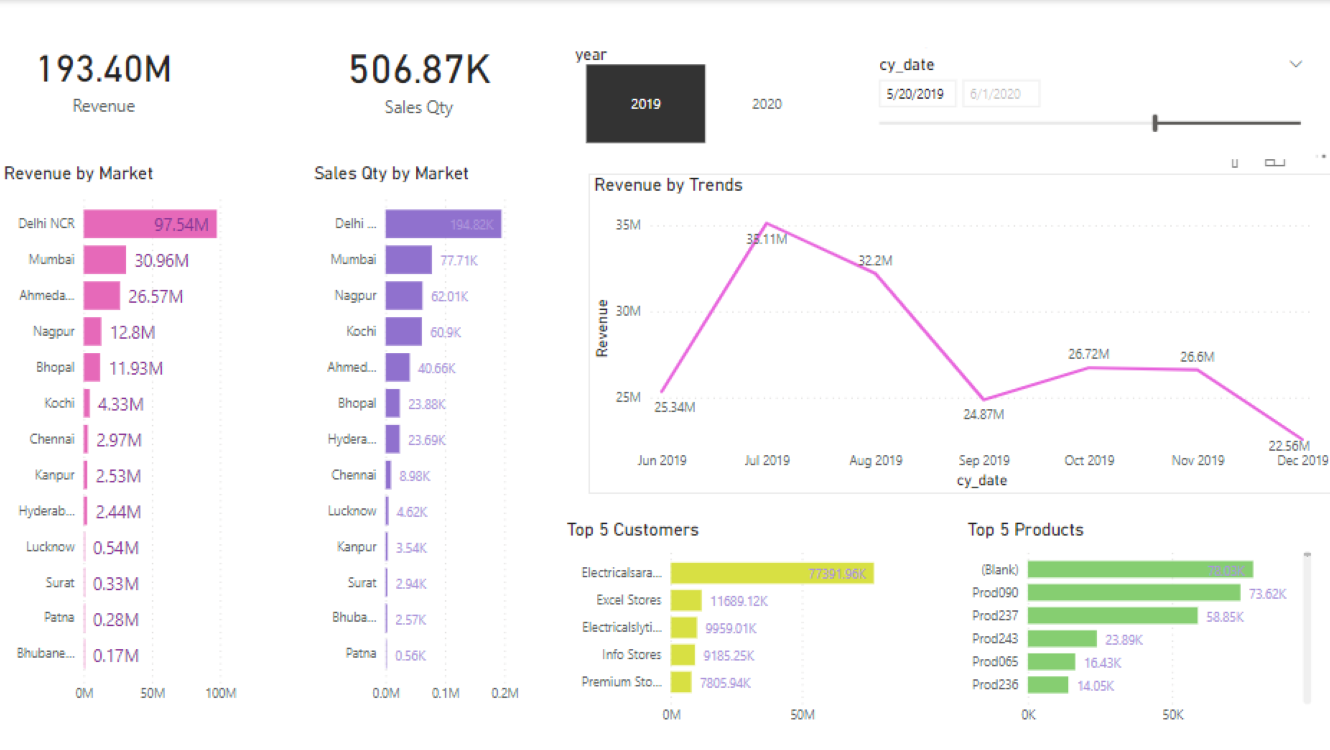

The dashboard page shown, as its layout file describes it:
{"tool":"powerbi","page":{"name":"Page 1","canvas":[1280,720],"ordinal":0},"visuals":[{"type":"card","fields":{"Values":["BaseMeasure.Revenue"]},"box":[25.4,22.5,152.2,101.4],"z":0},{"type":"card","fields":{"Values":["BaseMeasure.Sales Qty"]},"box":[297.3,22.5,211.4,101.4],"z":1000},{"type":"clusteredBarChart","title":"Revenue by Market","fields":{"Y":["BaseMeasure.Revenue"],"Category":["sales markets.markets_name"]},"box":[0,155,276.2,528.4],"z":2000},{"type":"clusteredBarChart","title":"Sales Qty by Market","fields":{"Y":["BaseMeasure.Sales Qty"],"Category":["sales markets.markets_name"]},"box":[297.3,155,242.3,528.4],"z":3000},{"type":"lineChart","title":"Revenue by Trends","fields":{"Y":["BaseMeasure.Revenue"],"Category":["sales date.cy_date"]},"box":[565,166.3,714.4,307.2],"z":4000},{"type":"slicer","fields":{"Values":["sales date.cy_date"]},"box":[846.8,36.6,432.6,105.7],"z":5000},{"type":"slicer","fields":{"Values":["sales date.year"]},"box":[539.5,37.2,278,104.6],"z":6000},{"type":"slicer","fields":{"Values":["sales date.cy_date"]},"box":[831.3,46.8,432.2,106],"z":7000},{"type":"clusteredBarChart","title":"Top 5 Customers","fields":{"Category":["sales customers.custmer_name"],"Y":["BaseMeasure.Revenue"]},"box":[539.6,497.4,367.7,207.1],"z":8000},{"type":"clusteredBarChart","title":"Top 5 Products","fields":{"Y":["BaseMeasure.Sales Qty"],"Category":["sales products.product_code"]},"box":[922.9,497.4,339.6,207.1],"z":9000}]}

Visuals, with their boxes in screenshot pixels (x1, y1, x2, y2), scaled from the page's 1280x720 canvas onto the 1330x750 screenshot:
card - BaseMeasure.Revenue: bbox=(26, 23, 185, 129)
card - BaseMeasure.Sales Qty: bbox=(309, 23, 529, 129)
"Revenue by Market" clusteredBarChart: bbox=(0, 161, 287, 712)
"Sales Qty by Market" clusteredBarChart: bbox=(309, 161, 561, 712)
"Revenue by Trends" lineChart: bbox=(587, 173, 1329, 493)
slicer - sales date.cy_date: bbox=(880, 38, 1329, 148)
slicer - sales date.year: bbox=(561, 39, 849, 148)
slicer - sales date.cy_date: bbox=(864, 49, 1313, 159)
"Top 5 Customers" clusteredBarChart: bbox=(561, 518, 943, 734)
"Top 5 Products" clusteredBarChart: bbox=(959, 518, 1312, 734)
